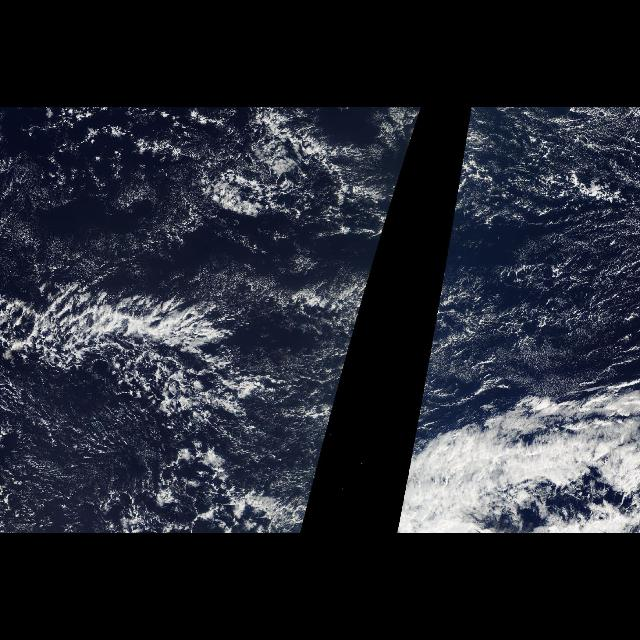Fish: (2, 113, 388, 533)
Gravel: (446, 112, 640, 378), (135, 447, 309, 533)
Sugar: (470, 214, 638, 382)
